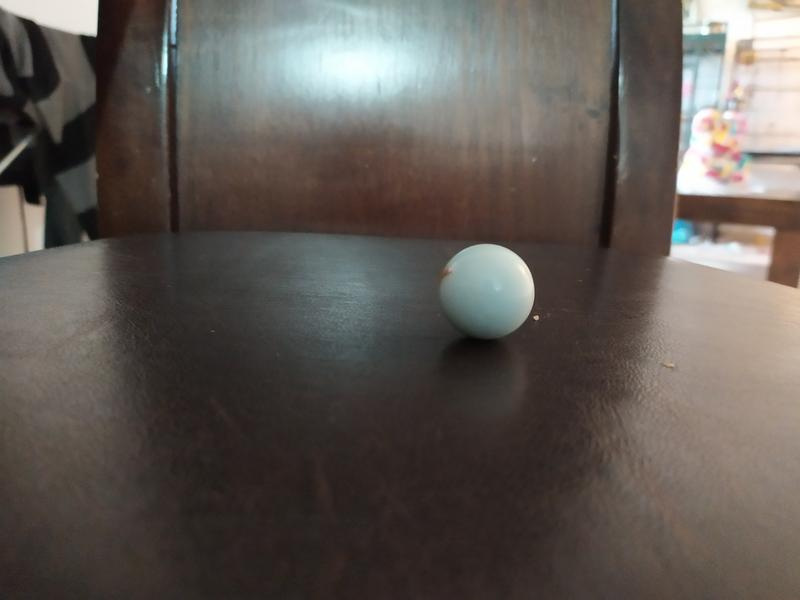Warning: (436, 241, 538, 342)
